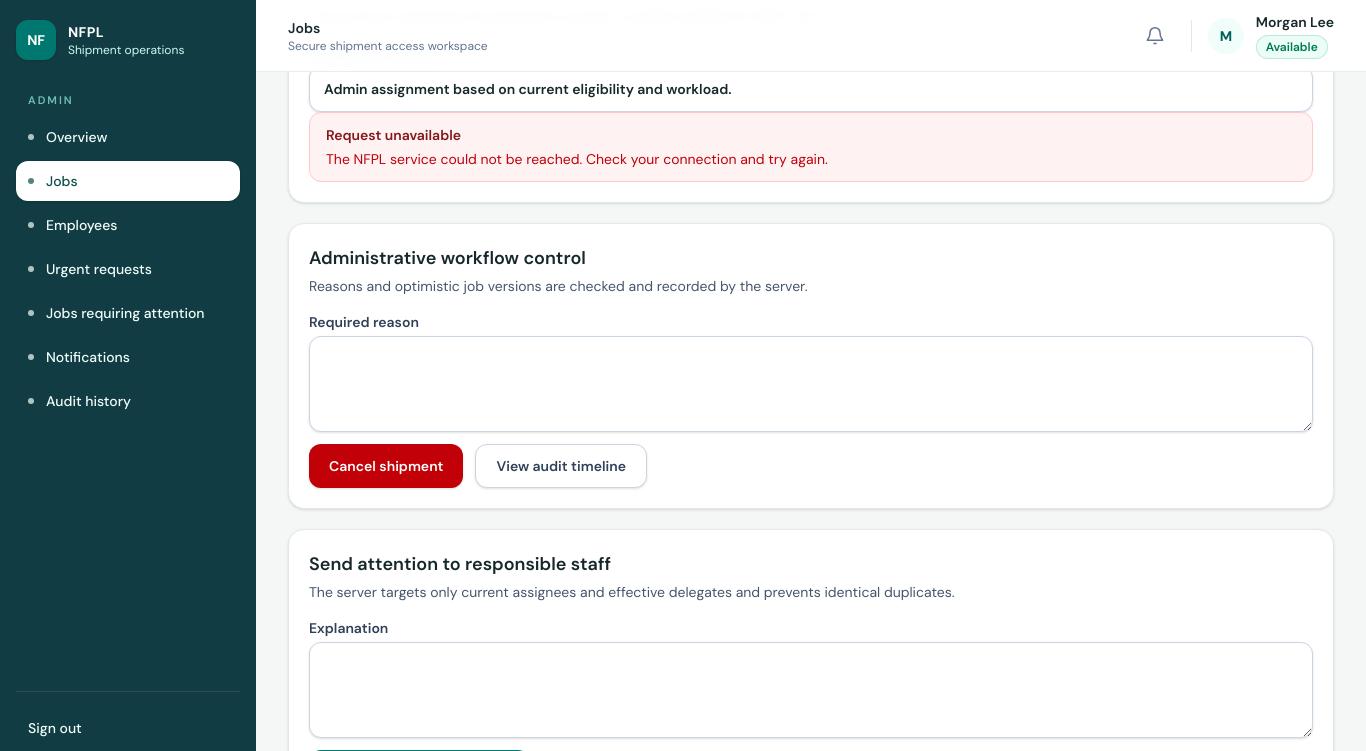
Test: Phase 6B Admin workflows › cancels a non-filed job using its optimistic version
(page scrolled)
Type "Duplicate shipment" into the text box labelled "Required reason".
click(811, 384); type("Duplicate shipment")  # box [309,336,1313,432]
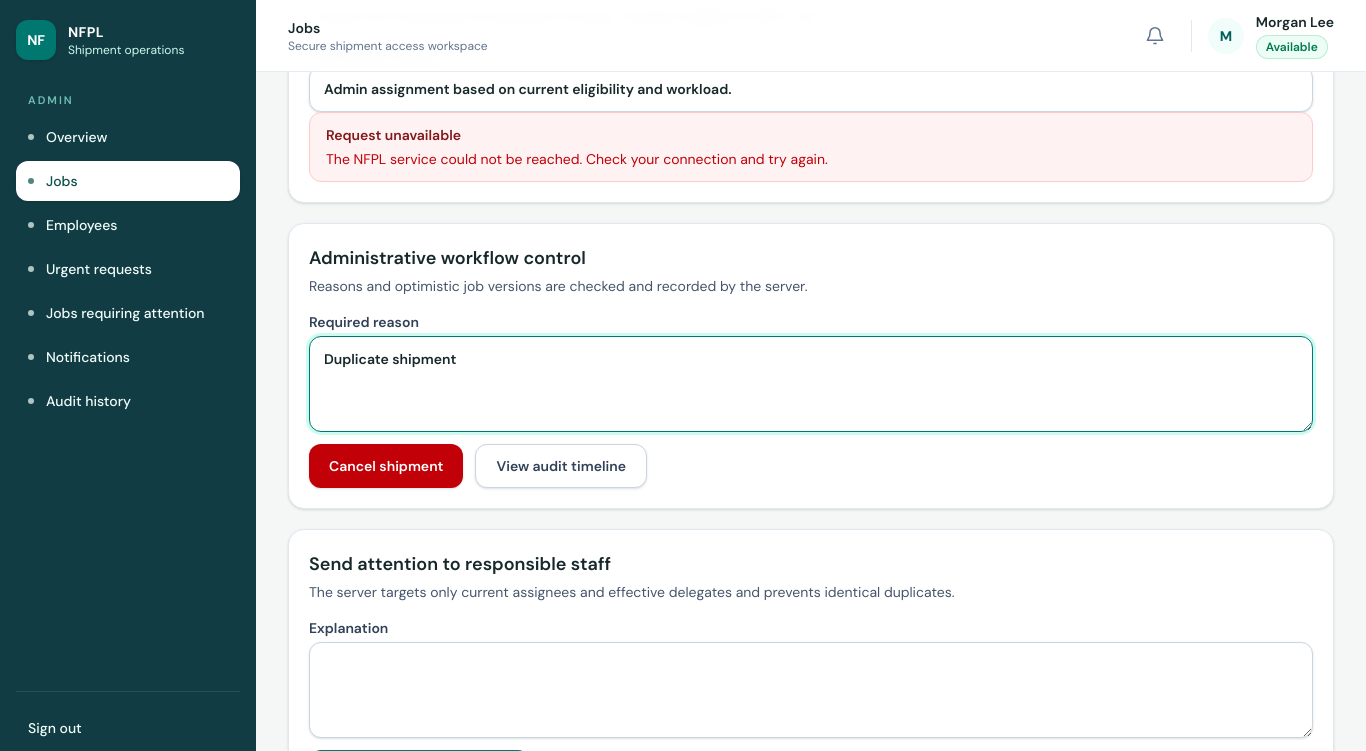
Click the button "Cancel shipment".
click(386, 466)  # box [309,444,464,488]
(page scrolled)
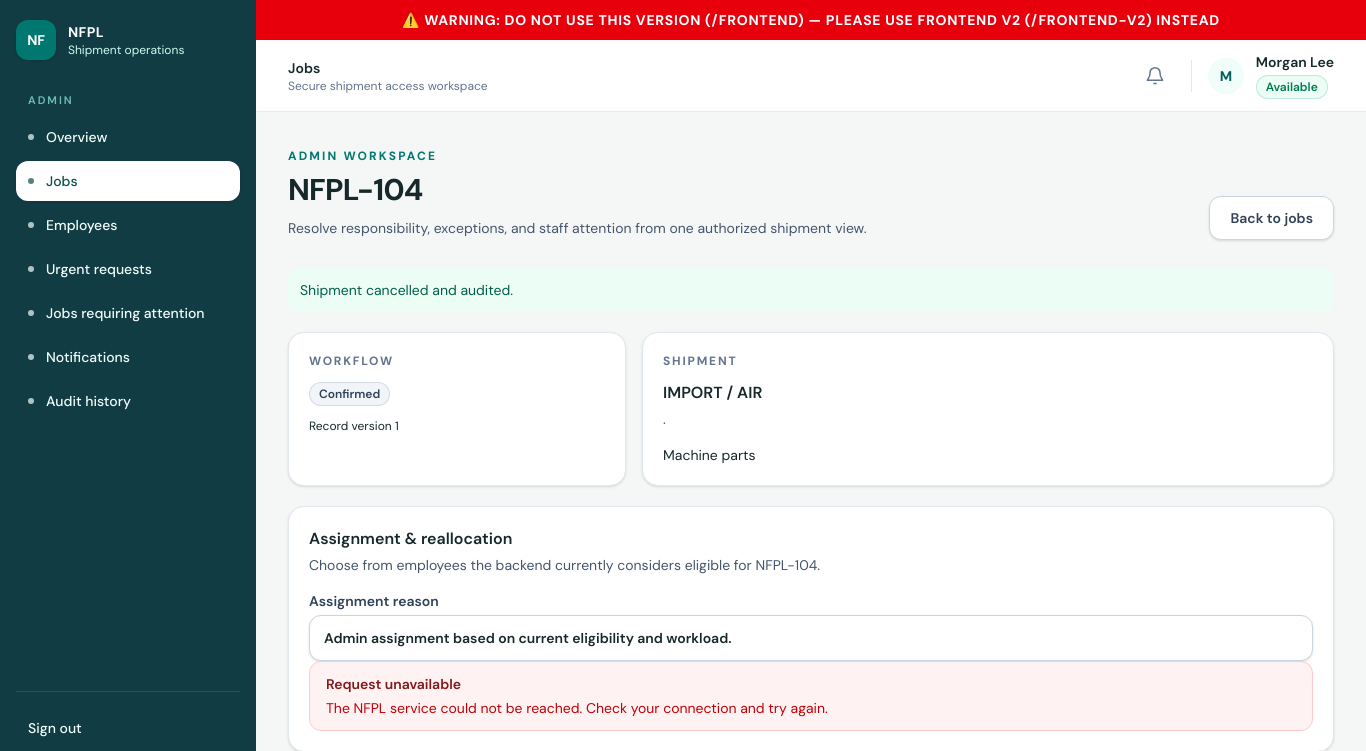
Result: the text "Shipment cancelled and audited." is shown at [288,268,1334,312]
